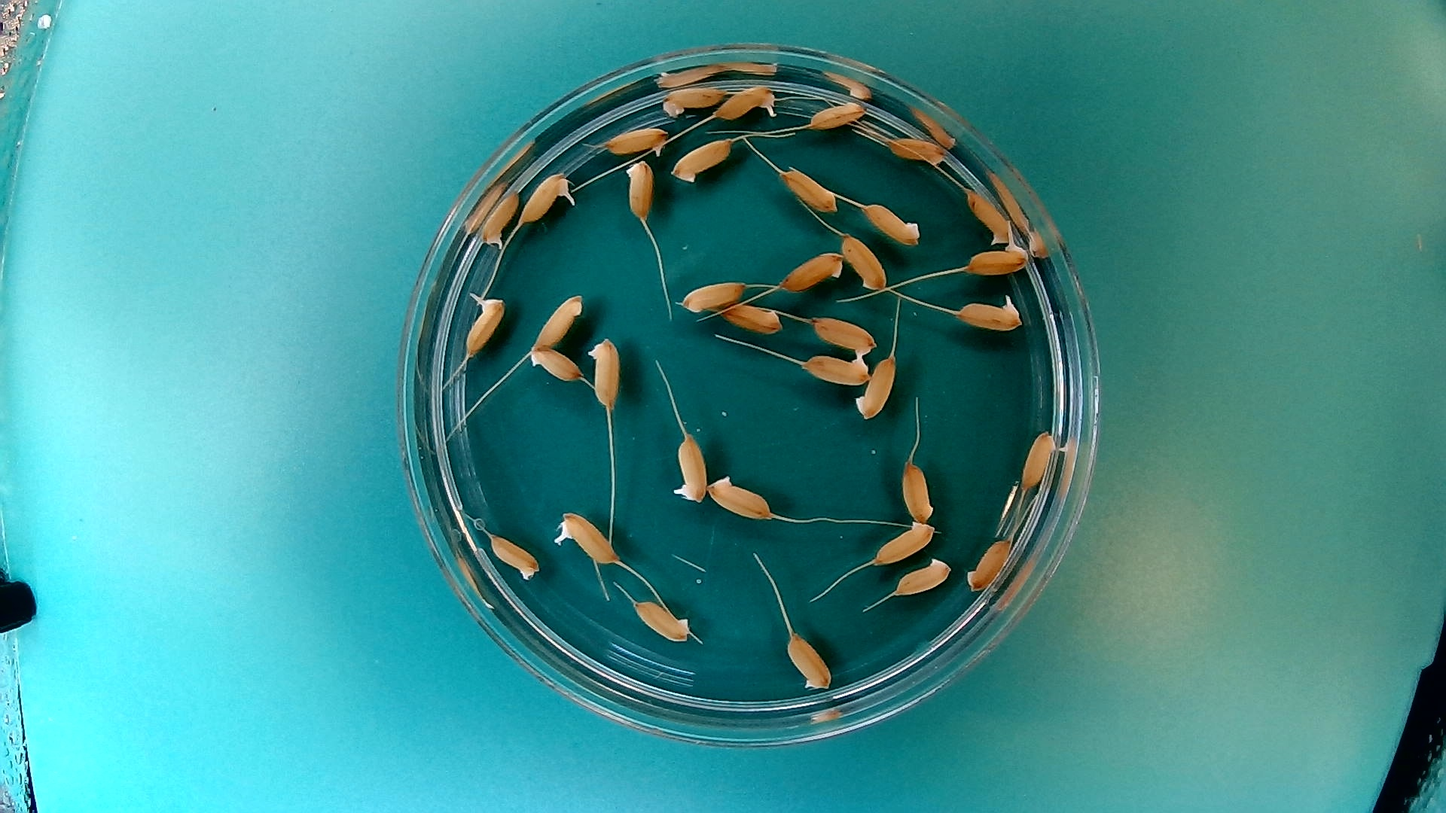no: (705, 470, 776, 521), (530, 288, 587, 351), (669, 133, 735, 184), (962, 185, 1017, 246), (870, 520, 939, 566), (852, 353, 898, 422), (962, 535, 1014, 594), (785, 631, 834, 693), (584, 333, 622, 412), (779, 164, 840, 213), (486, 531, 542, 584), (631, 598, 694, 645), (779, 248, 845, 292), (840, 231, 887, 291), (862, 199, 923, 245), (893, 553, 956, 597), (810, 317, 877, 358), (676, 278, 749, 315), (1020, 428, 1058, 493), (524, 343, 584, 384), (719, 300, 787, 336), (602, 122, 670, 157), (660, 82, 728, 117), (800, 352, 871, 385), (901, 458, 937, 522), (619, 157, 655, 221), (886, 132, 947, 168), (808, 98, 869, 132)
yes: (561, 507, 621, 565), (516, 173, 577, 227), (462, 288, 507, 358), (713, 82, 781, 123), (480, 187, 523, 248), (673, 428, 708, 501), (956, 294, 1023, 332), (964, 241, 1029, 275)
